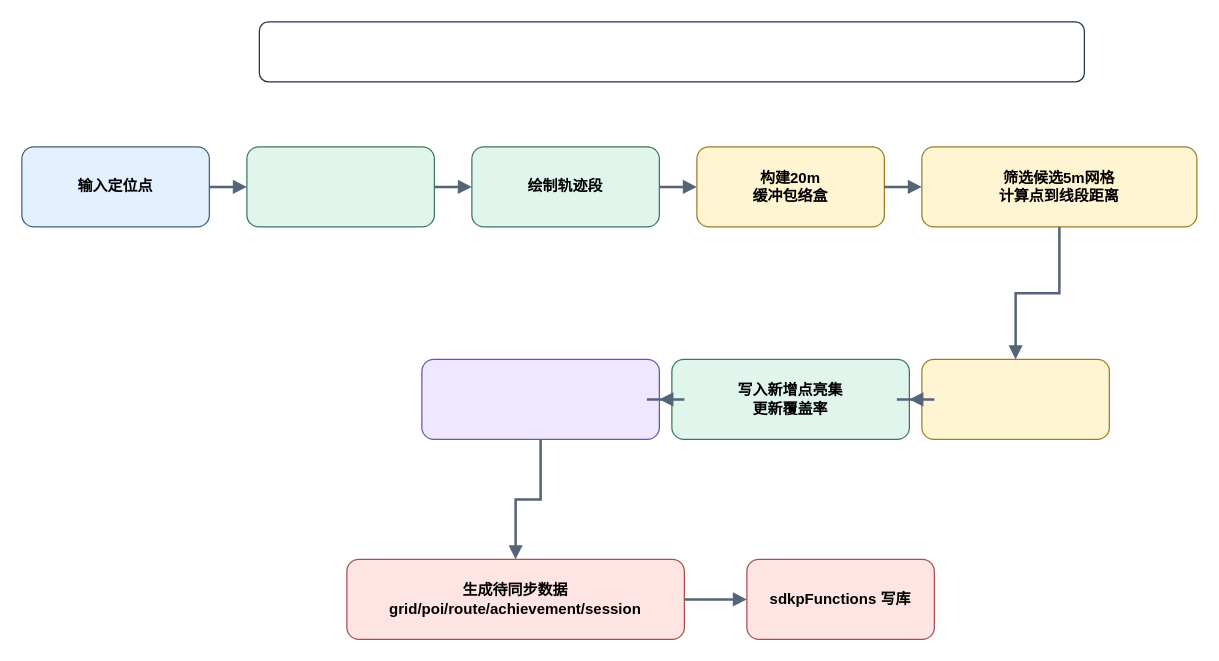
This 1219x661 diagram has some shape labels left out. Each missing label, with the centre of its shape:
"3秒/6米 采样过滤" belongs at (340,186).
"POI/路线/成就判定" belongs at (540,398).
"不可达过滤 重复点亮去重" belongs at (1015,398).
"核心模块算法设计" belongs at (671,51).
